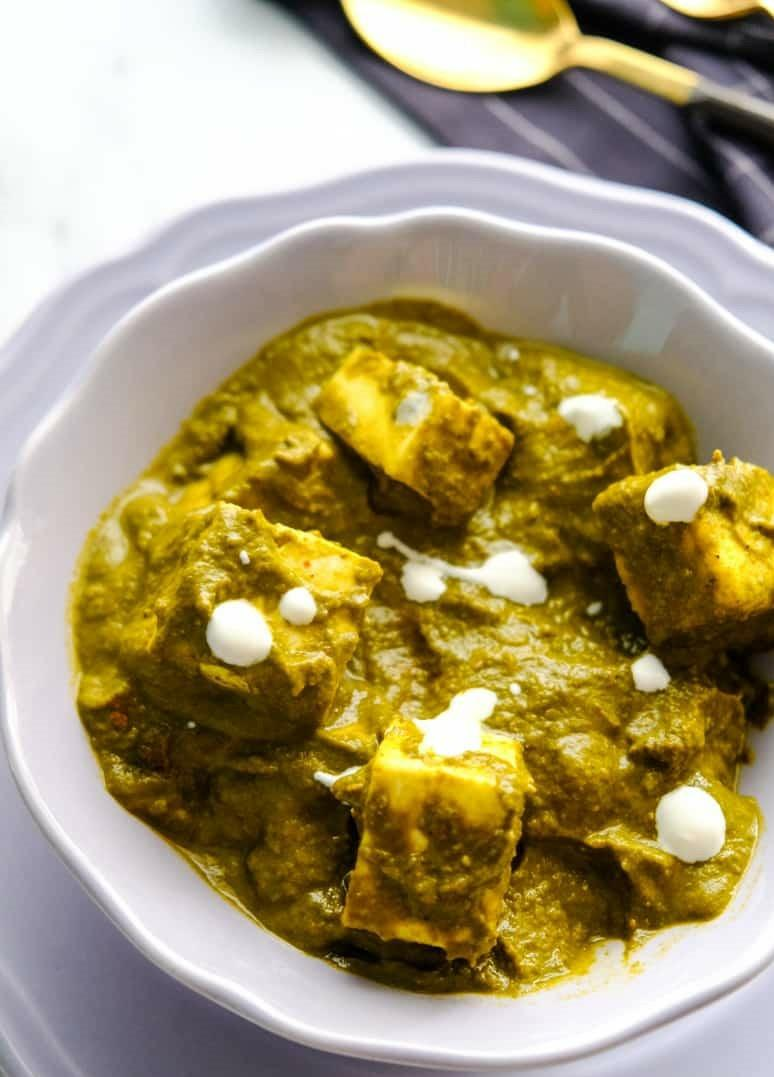PalakPaneer: (71, 293, 774, 1003)
